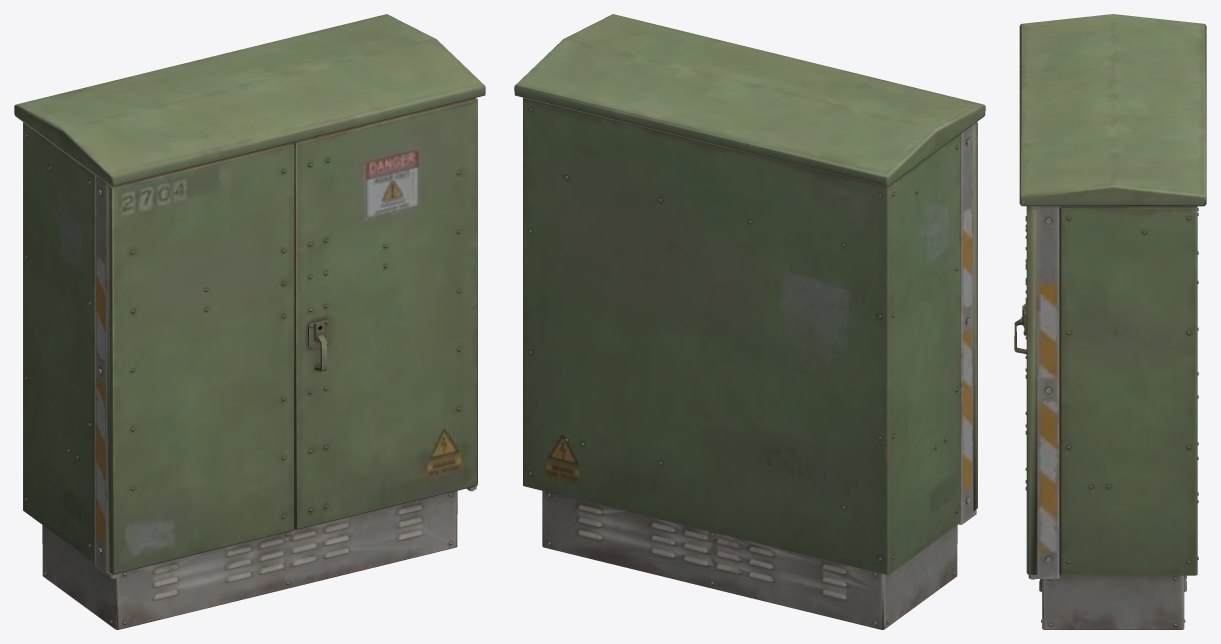
Rendered from utility_box_02.glb.
3 renders of one model, left to right at view 1: azimuth 30°, elevation 25°; view 2: azimuth 150°, elevation 25°; view 3: azimuth 270°, elevation 25°, orthographic. The views are drawn at different scales.
Parts seen in each view (by area): view 1: utility_box_02; view 2: utility_box_02; view 3: utility_box_02.
Boxes of the visible parts, left/top/right/bottom form: utility_box_02: left=14, top=14, right=485, bottom=629; utility_box_02: left=514, top=14, right=985, bottom=629; utility_box_02: left=1014, top=14, right=1206, bottom=629.
Size of the model in its own units: 0.92 by 1.12 by 0.432.
Materials: 1 (1 with a texture image).
